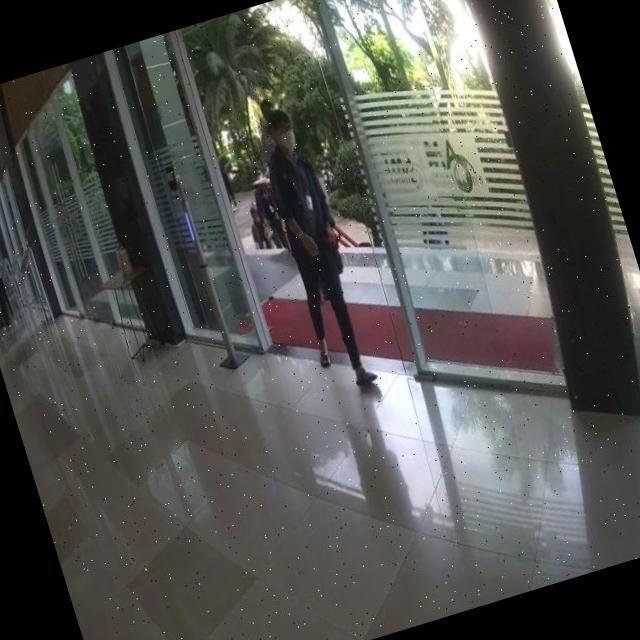person: (244, 104, 386, 401)
